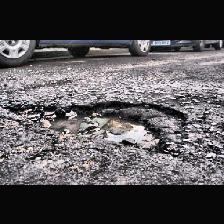pothole: (4, 98, 188, 158)
